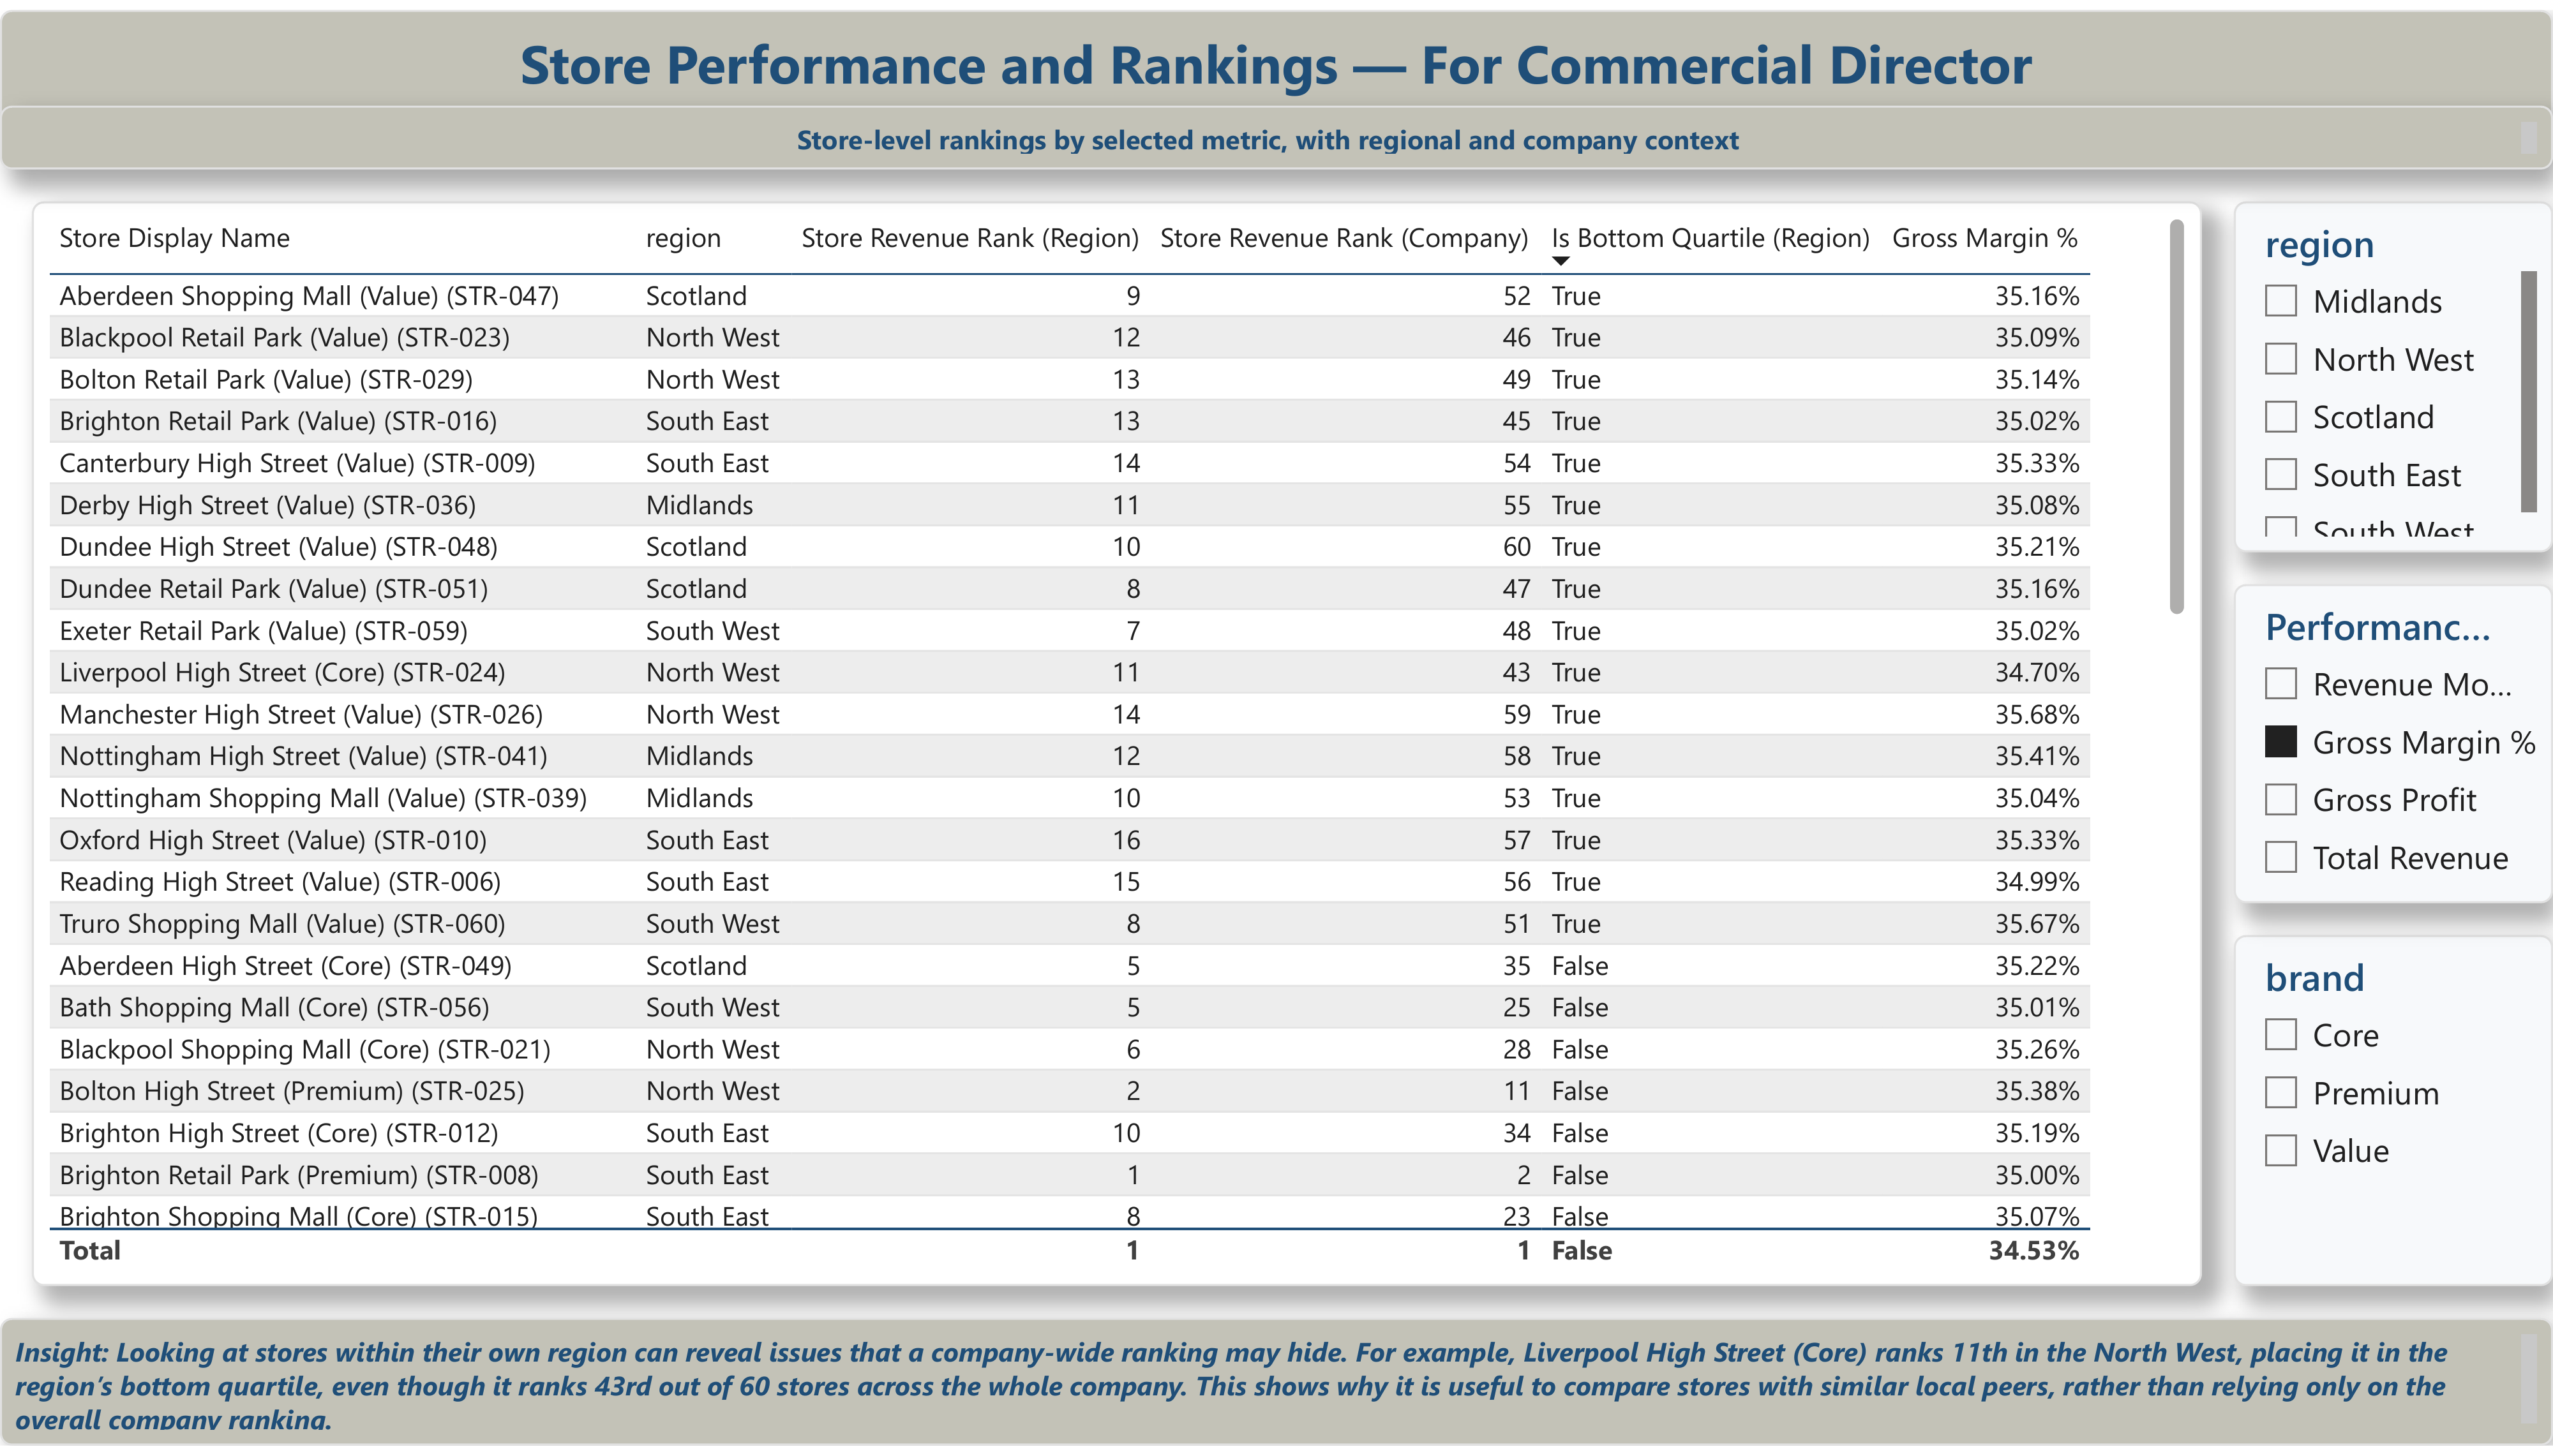

What the dashboard file says about the page in this screenshot:
{"tool":"powerbi","page":{"name":"Store Performance and Rankings","canvas":[1280,720],"ordinal":1},"visuals":[{"type":"tableEx","fields":{"Values":["Stores.Store Display Name","Stores.region","Categories.Store Revenue Rank (Region)","Categories.Store Revenue Rank (Company)","Categories.Is Bottom Quartile (Region)","Categories.Gross Margin %"]},"box":[16,96,1088,544],"z":0},{"type":"slicer","fields":{"Values":["Stores.region"]},"box":[1120,96,160,176],"z":1000},{"type":"textbox","box":[0,0,1280,64],"z":2000},{"type":"textbox","box":[0,48,1280,32],"z":3000},{"type":"slicer","fields":{"Values":["Stores.brand"]},"box":[1120,464,160,176],"z":4000},{"type":"slicer","fields":{"Values":["Performance Metric Parameter.Performance Metric Parameter"]},"box":[1120,288,160,160],"z":5000},{"type":"textbox","box":[0,656,1280,64],"z":6000}]}

Visuals, with their boxes in screenshot pixels (x1, y1, x2, y2), scaled from the page's 1280x720 canvas onto the 2553x1456 screenshot:
tableEx - Stores.Store Display Name x Stores.region: <bbox>32, 194, 2202, 1294</bbox>
slicer - Stores.region: <bbox>2234, 194, 2552, 550</bbox>
textbox: <bbox>0, 0, 2552, 130</bbox>
textbox: <bbox>0, 97, 2552, 162</bbox>
slicer - Stores.brand: <bbox>2234, 939, 2552, 1294</bbox>
slicer - Performance Metric Parameter.Performance Metric Parameter: <bbox>2234, 583, 2552, 906</bbox>
textbox: <bbox>0, 1326, 2552, 1455</bbox>
